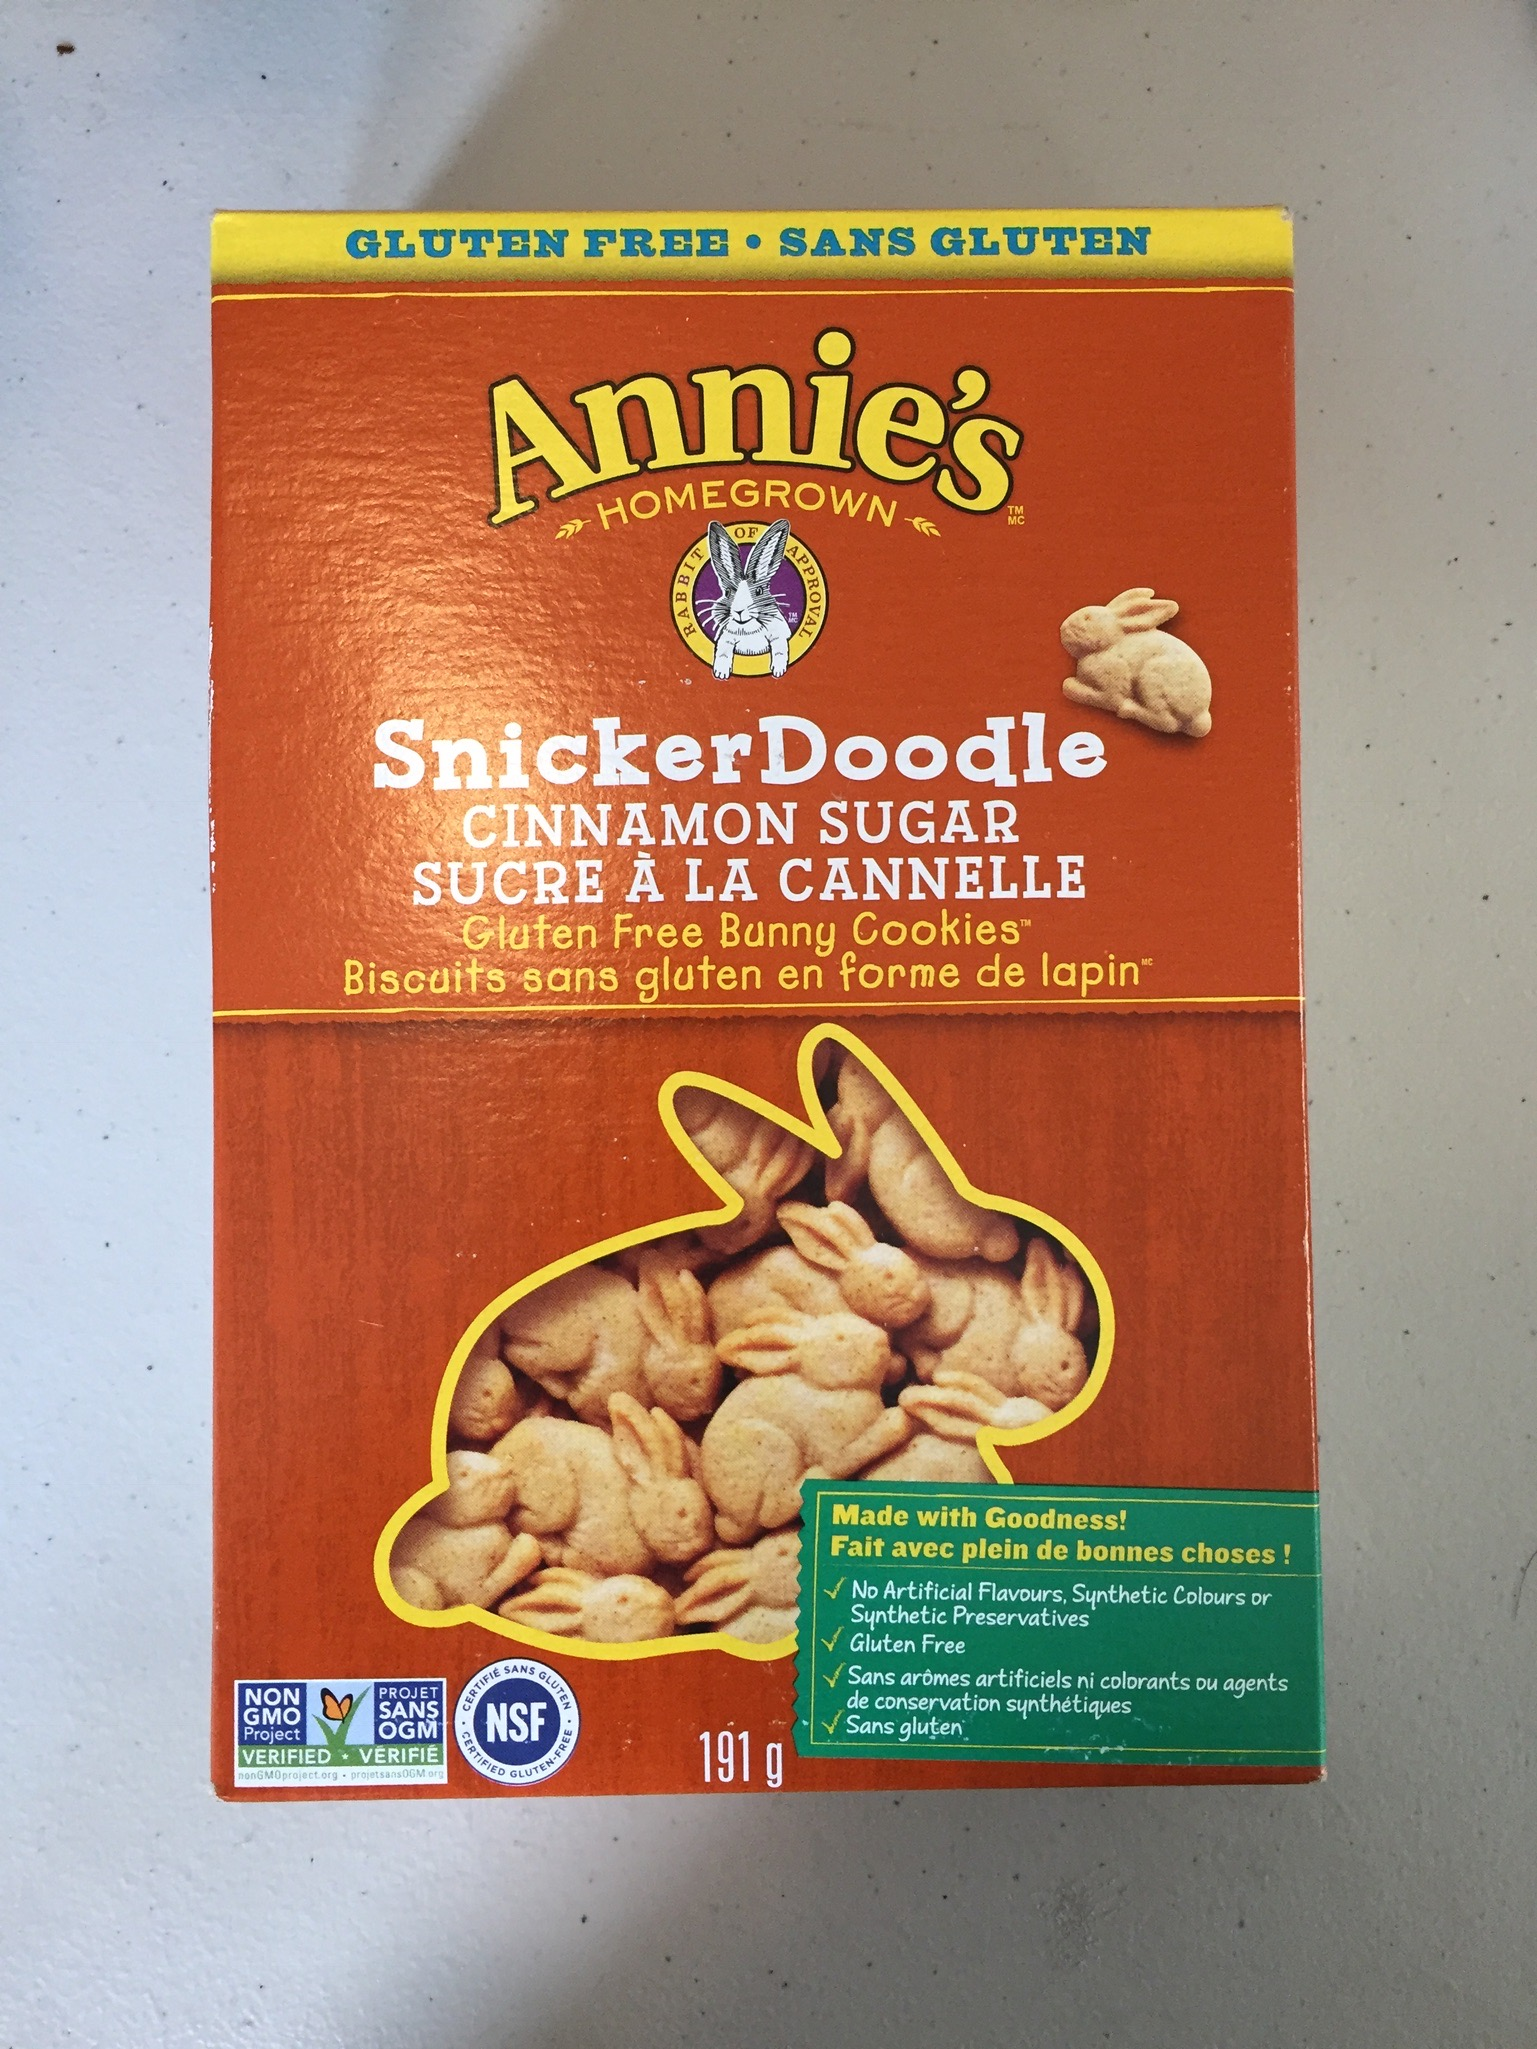annies_snickerdoodle_cinnamon_sugar: (232, 216, 1301, 1771)
